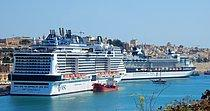Ship: (9, 27, 129, 97)
